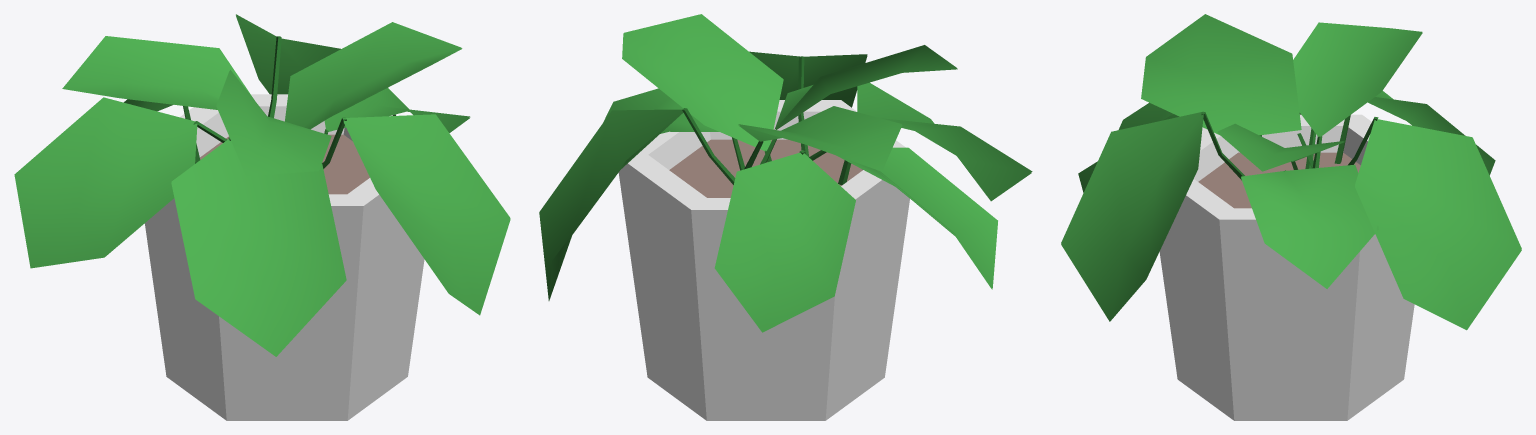
Rendered from Plants_M12.fbx.
The picture shows the model from 3 angles, left to right: view 1: azimuth 30°, elevation 25°; view 2: azimuth 150°, elevation 25°; view 3: azimuth 270°, elevation 25°; orthographic projection. The views are drawn at different scales.
Visible parts, largest first — view 1: Plants_M12; view 2: Plants_M12; view 3: Plants_M12.
Boxes of the visible parts, box(x1,y1,x2,y2) form: Plants_M12: box(14, 14, 510, 420); Plants_M12: box(539, 14, 1032, 420); Plants_M12: box(1061, 14, 1521, 420).
Size of the model in its own units: 0.2495 by 0.1915 by 0.2559.
1 material, 1 textured.
